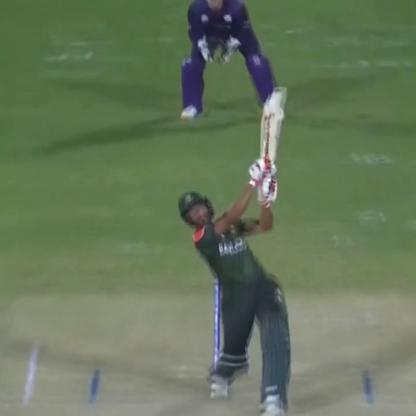bat: (241, 72, 291, 210)
pitch: (6, 340, 416, 416)
